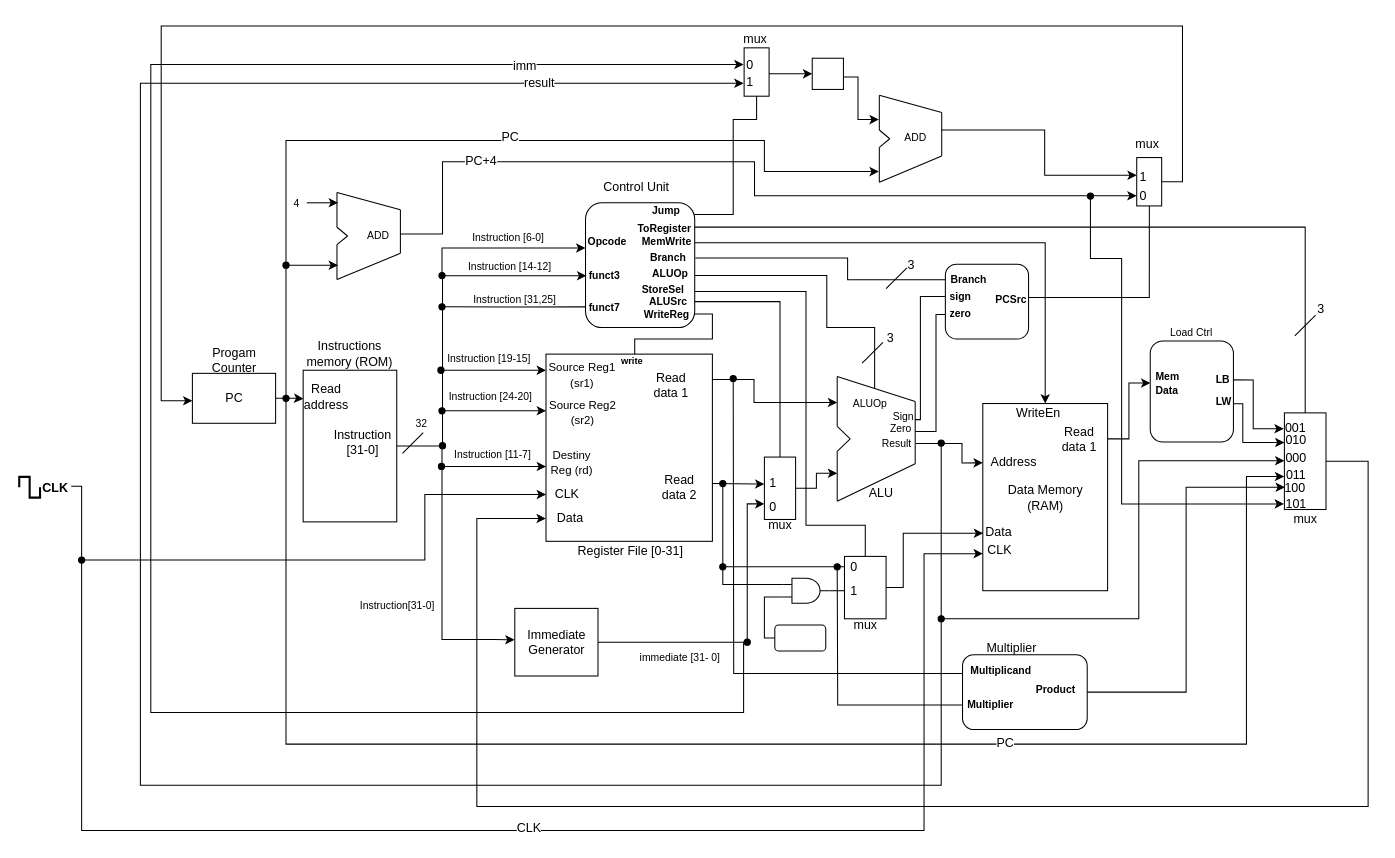
Image size: 1395x858. Some labels were removed from this diagram. Each missing label, with the centre of its shape:
"byte mask" goes at point (800, 637).
"shift left 1" goes at point (827, 73).
